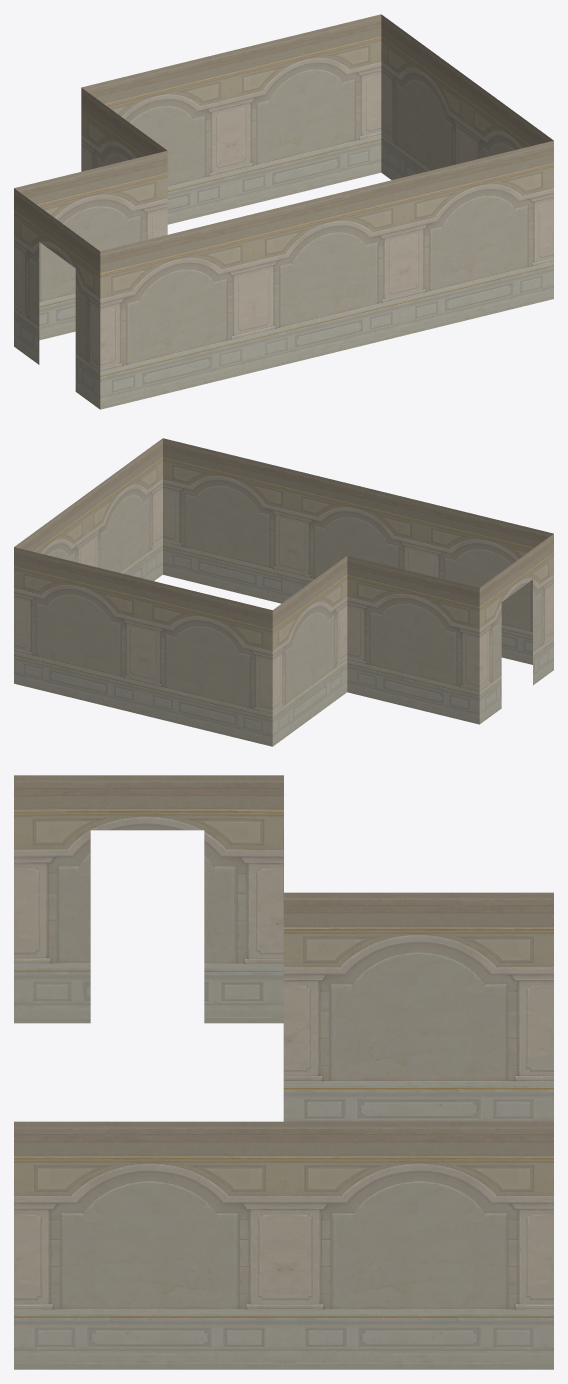
File: Homeworld_Interior_Fd_Room_G_Filling_01_Vo.fbx
3 renders of one model, top to bottom at view 1: azimuth 30°, elevation 25°; view 2: azimuth 150°, elevation 25°; view 3: azimuth 270°, elevation 25°, orthographic. The views are drawn at different scales.
Visible parts, largest first — view 1: Homeworld_Interior_Fd_Room_G_Filling_01_Vo; view 2: Homeworld_Interior_Fd_Room_G_Filling_01_Vo; view 3: Homeworld_Interior_Fd_Room_G_Filling_01_Vo.
Part boxes in pixels (x1,y1,x2,y2): Homeworld_Interior_Fd_Room_G_Filling_01_Vo: (14, 14, 553, 409); Homeworld_Interior_Fd_Room_G_Filling_01_Vo: (14, 438, 553, 746); Homeworld_Interior_Fd_Room_G_Filling_01_Vo: (14, 775, 553, 1369).
Size of the model in its own units: 14.93 by 4.98 by 9.84.
